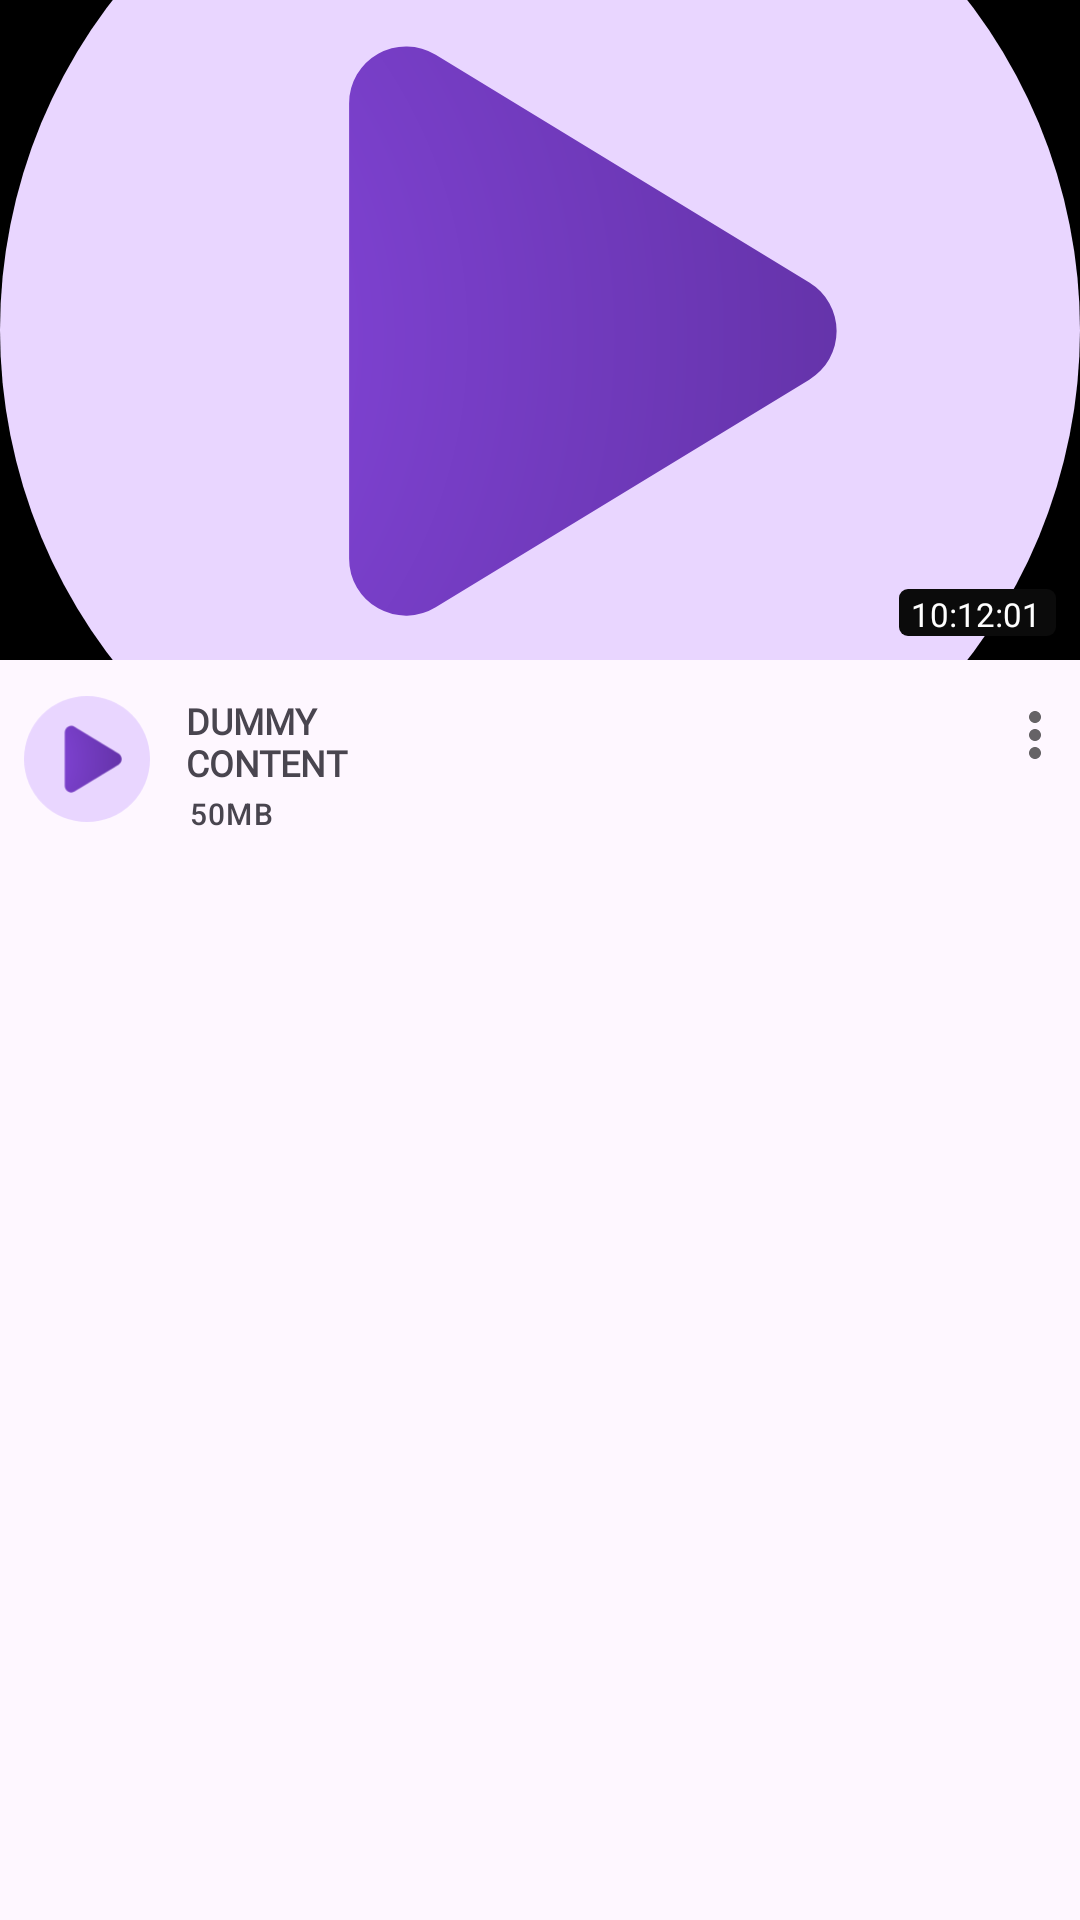

Point at icon controls on the screen. Image size 1080 × 1920, points as point (x, y).
more: point (1035, 735)
